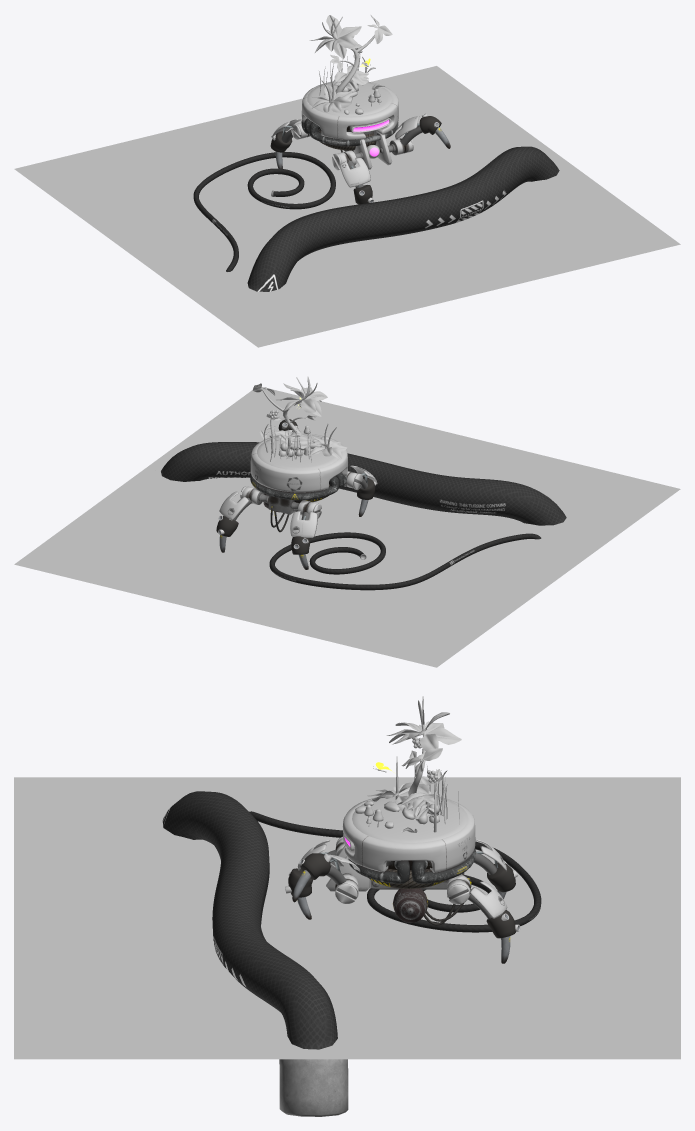
The model's file is TerrariumBot.gltf.
3 renders of one model, top to bottom at view 1: azimuth 30°, elevation 25°; view 2: azimuth 150°, elevation 25°; view 3: azimuth 270°, elevation 25°, orthographic. The views are drawn at different scales.
Parts seen in each view (by area): view 1: ground, NurbsPath.002, gravel, base_low, legs_low, plate_low, angle_low, pipe_low, connector_low; view 2: ground, NurbsPath.002, gravel, base_low, legs_low, plate_low, pipe_low, angle_low; view 3: ground, NurbsPath.002, gravel, base_low, legs_low, pipe_low, plate_low, motor_low, angle_low.
Boxes of the visible parts, x1,y1,x2,y2 form: ground: (14,66,680,347); NurbsPath.002: (193,146,559,291); gravel: (307,15,392,116); base_low: (301,81,398,139); legs_low: (270,113,450,204); plate_low: (272,116,419,187); angle_low: (291,122,413,170); pipe_low: (301,118,398,146); connector_low: (353,130,392,169); ground: (14,387,680,667); NurbsPath.002: (161,442,566,590); gravel: (252,376,346,469); base_low: (250,433,347,492); legs_low: (216,418,376,569); plate_low: (219,430,377,537); pipe_low: (250,472,346,500); angle_low: (240,471,362,518); ground: (14,777,680,1059); NurbsPath.002: (162,791,541,1116); gravel: (352,696,468,842); base_low: (342,796,475,872); legs_low: (285,849,520,963); pipe_low: (348,847,476,883); plate_low: (297,838,507,918); motor_low: (392,877,471,925); angle_low: (335,836,470,904).
Size of what is drawn, in the model's own units: 1177 by 571 by 1161.
